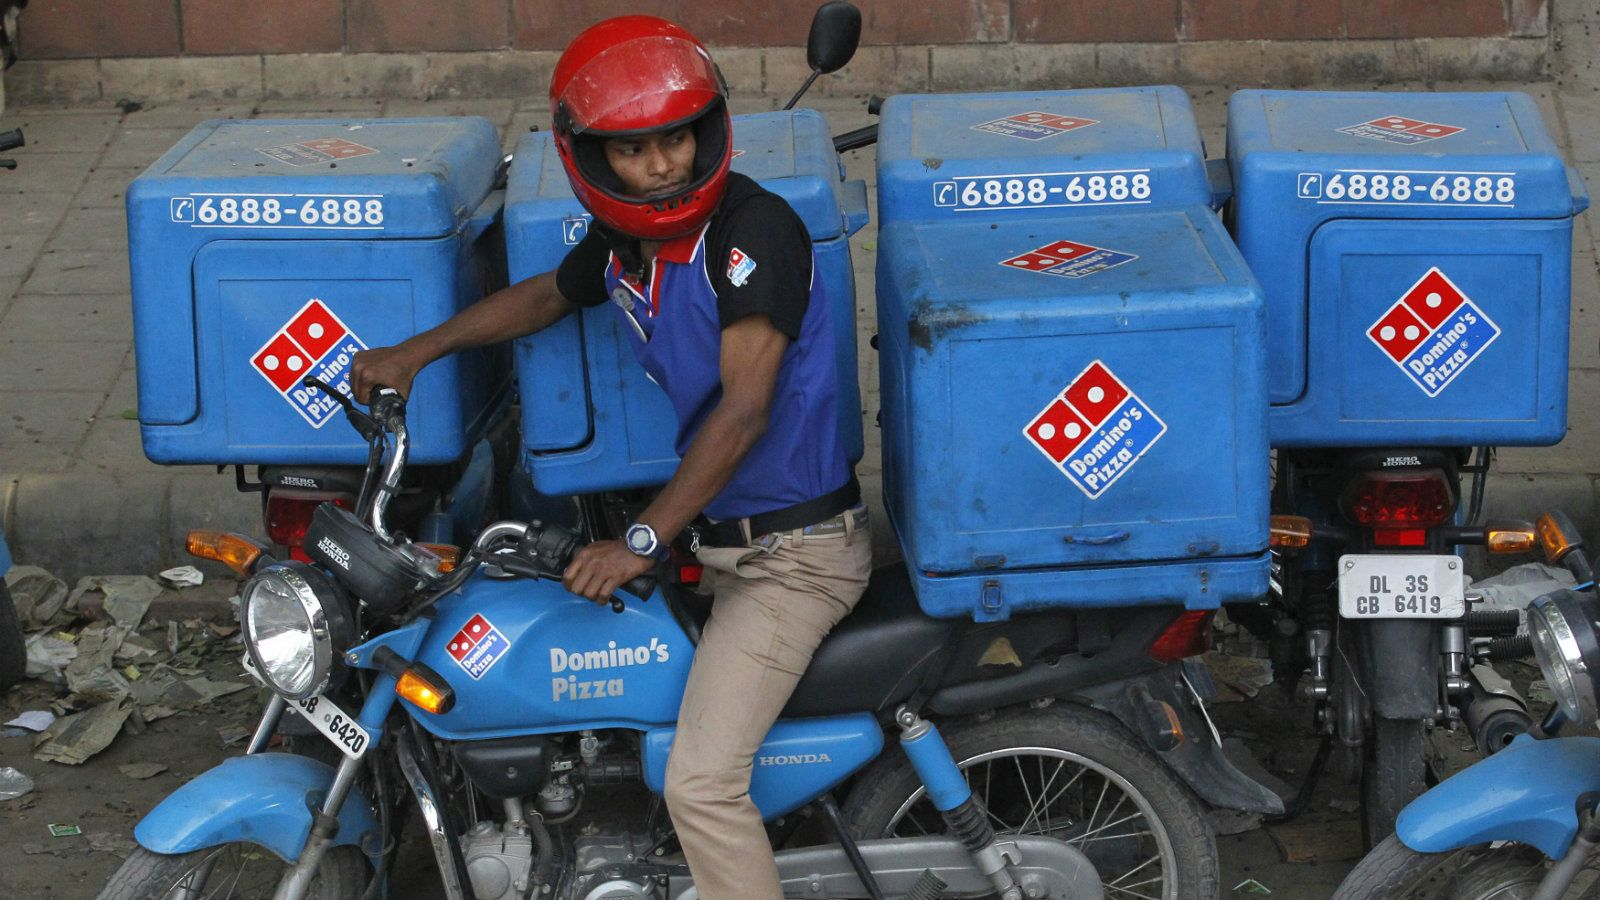number_plate: (1334, 548, 1469, 622)
